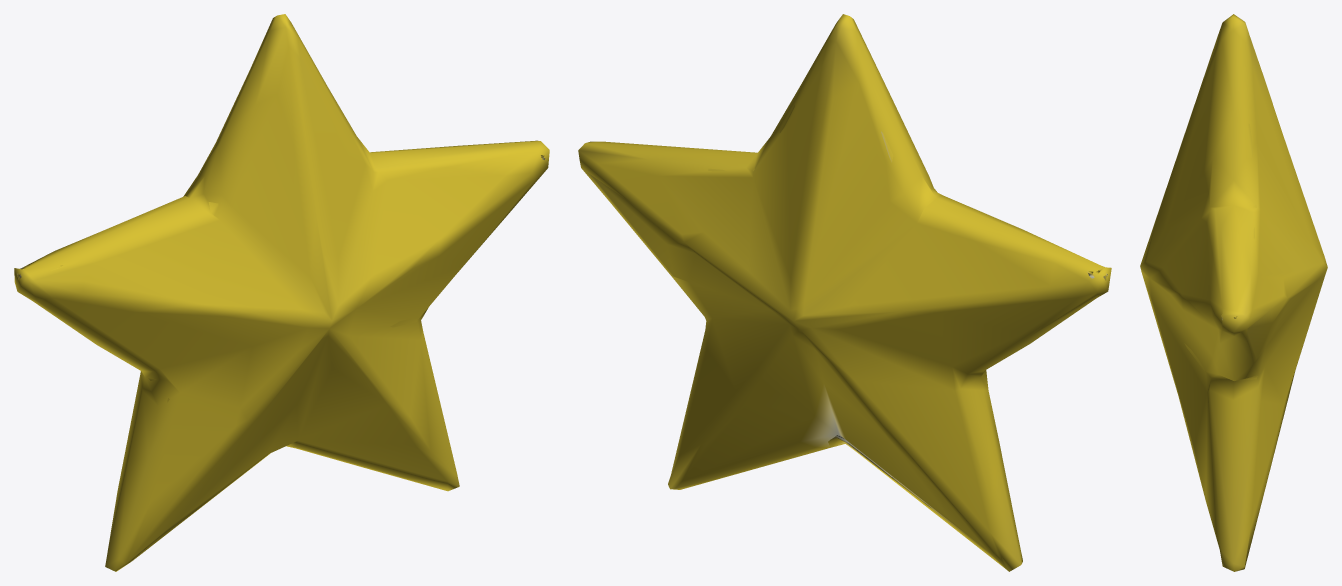
The model's file is gen3d-gold-star-pickup-lod0.glb.
3 renders of one model, left to right at view 1: azimuth 30°, elevation 25°; view 2: azimuth 150°, elevation 25°; view 3: azimuth 270°, elevation 25°, orthographic. The views are drawn at different scales.
Parts seen in each view (by area): view 1: part_0; view 2: part_0; view 3: part_0.
Part boxes in pixels (x1=…): part_0: x1=14, y1=14, x2=549, y2=571; part_0: x1=578, y1=14, x2=1111, y2=571; part_0: x1=1140, y1=14, x2=1327, y2=571.
Bounding box in the file's own units: 1.06 × 0.9965 × 0.3533.
